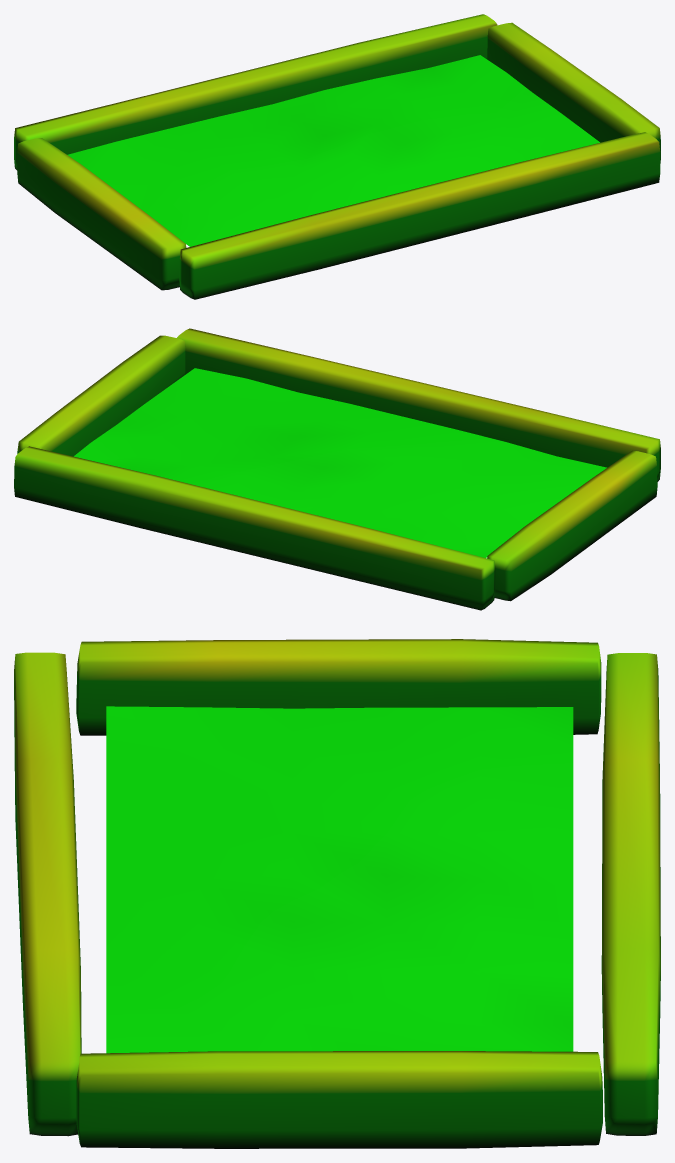
The model's file is grave_curb.glb.
3 renders of one model, top to bottom at view 1: azimuth 30°, elevation 25°; view 2: azimuth 150°, elevation 25°; view 3: azimuth 270°, elevation 25°, orthographic. The views are drawn at different scales.
Visible parts, largest first — view 1: grave_curb; view 2: grave_curb; view 3: grave_curb.
Part boxes in pixels (x1,y1,x2,y2): grave_curb: [14, 14, 660, 299]; grave_curb: [14, 328, 660, 610]; grave_curb: [14, 639, 660, 1148].
Size of what is drawn, in the model's own units: 2.12 by 0.186 by 1.33.
